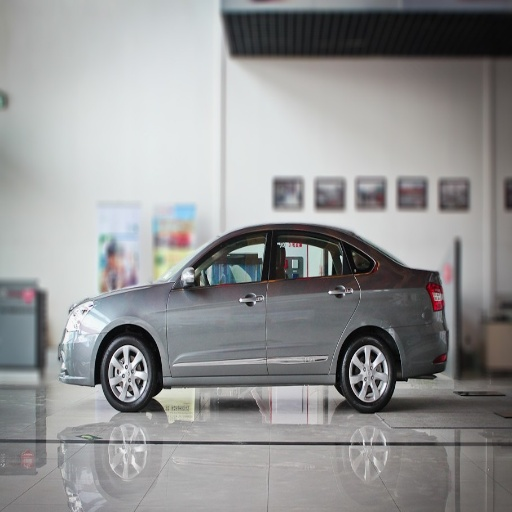back_left_door: (266, 227, 359, 373)
front_left_door: (167, 227, 270, 374)
